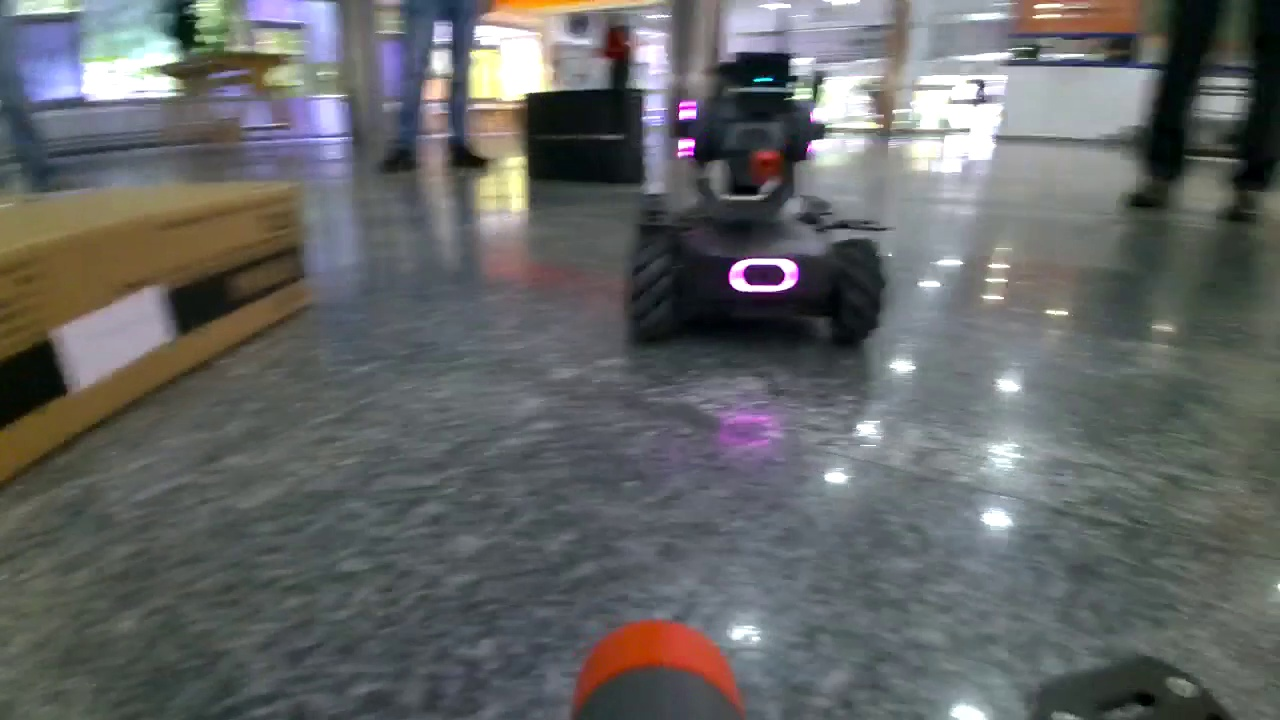robot: (616, 56, 889, 351)
